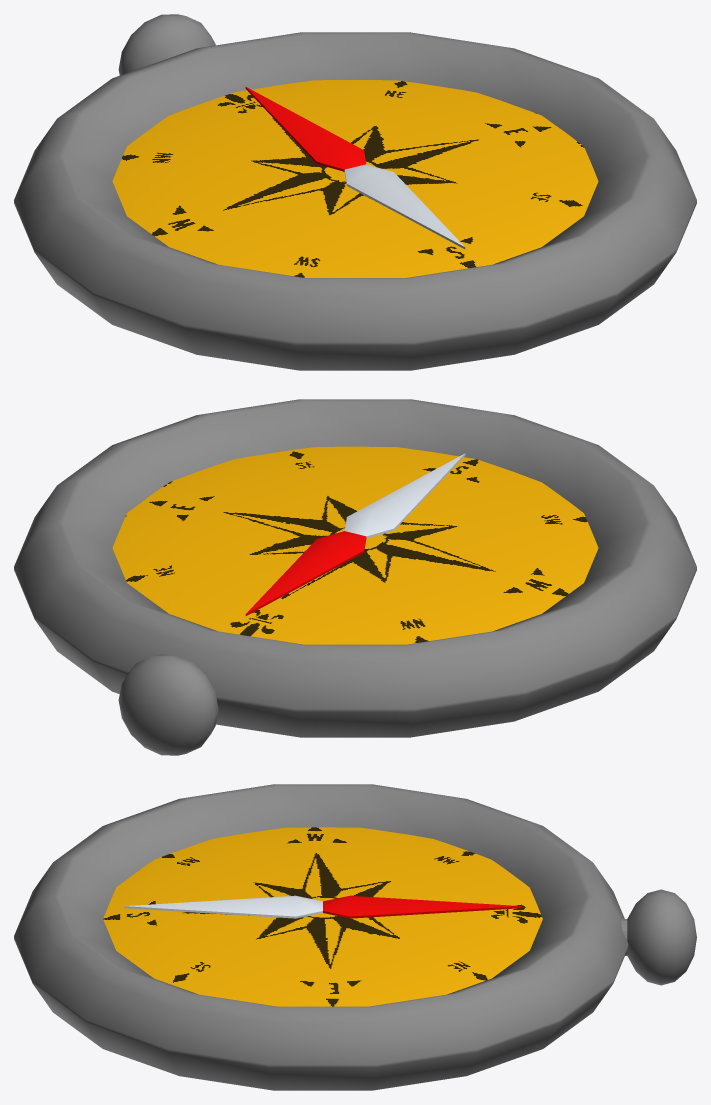
Rendered from compass.fbx.
The picture shows the model from 3 angles, top to bottom: view 1: azimuth 30°, elevation 25°; view 2: azimuth 150°, elevation 25°; view 3: azimuth 270°, elevation 25°; orthographic projection. The views are drawn at different scales.
Parts seen in each view (by area): view 1: Torus01, Sphere01, Box02, Sphere02; view 2: Torus01, Sphere01, Sphere02, Box02; view 3: Torus01, Sphere01, Box02, Sphere02.
Boxes of the visible parts, x1,y1,x2,y2 form: Torus01: (14, 32, 696, 370); Sphere01: (112, 80, 598, 277); Box02: (245, 87, 465, 249); Sphere02: (118, 14, 215, 75); Torus01: (14, 399, 696, 737); Sphere01: (112, 446, 598, 644); Sphere02: (118, 654, 218, 755); Box02: (245, 453, 465, 615); Torus01: (14, 784, 628, 1090); Sphere01: (103, 827, 542, 1006); Box02: (124, 895, 521, 918); Sphere02: (621, 889, 696, 985).
Bounding box in the file's own units: 131 × 20.75 × 147.
